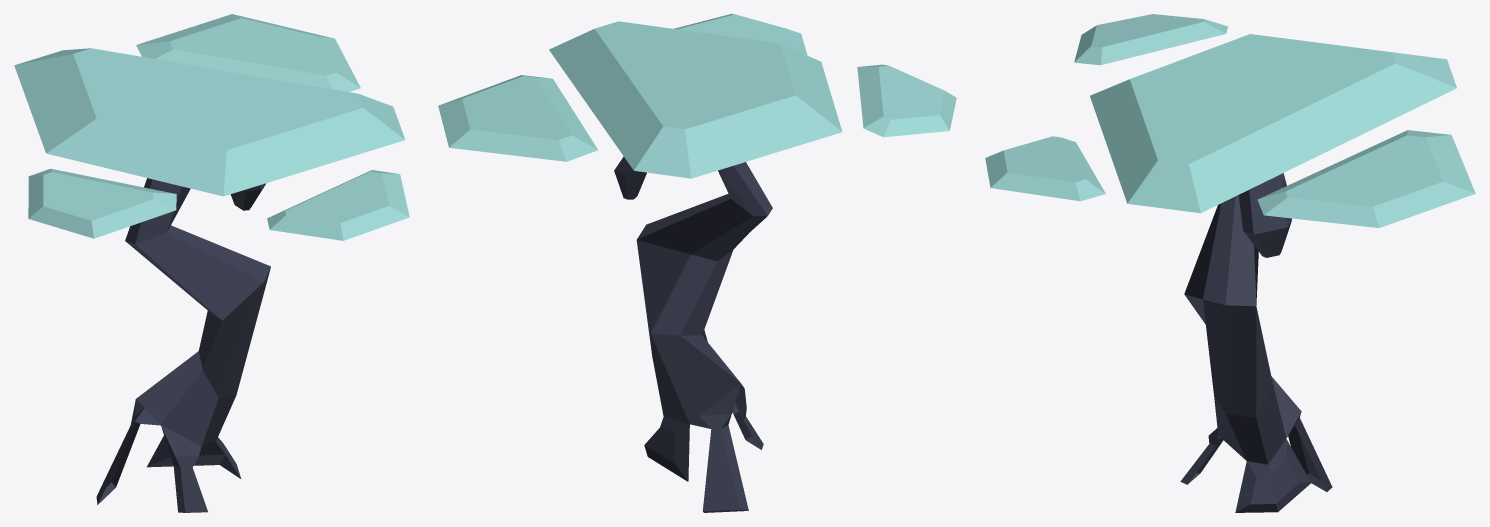
File: Tree_p02.fbx
The picture shows the model from 3 angles, left to right: view 1: azimuth 30°, elevation 25°; view 2: azimuth 150°, elevation 25°; view 3: azimuth 270°, elevation 25°; orthographic projection. The views are drawn at different scales.
Parts seen in each view (by area): view 1: Decosol01.016; view 2: Decosol01.016; view 3: Decosol01.016.
Boxes of the visible parts, x1,y1,x2,y2 form: Decosol01.016: [14, 14, 409, 512]; Decosol01.016: [438, 14, 956, 512]; Decosol01.016: [985, 14, 1475, 512].
Size of the model in its own units: 280 by 268 by 275.
